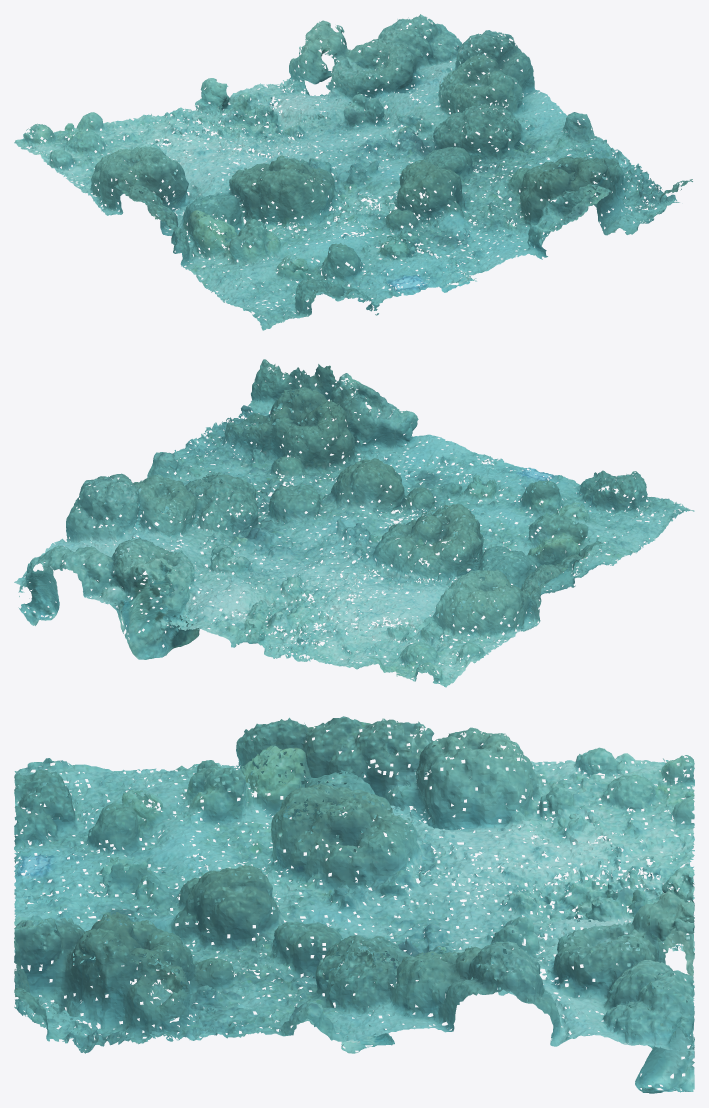
3 views of the same model, one above another, from view 1: azimuth 30°, elevation 25°; view 2: azimuth 150°, elevation 25°; view 3: azimuth 270°, elevation 25° (orthographic). The views are drawn at different scales.
Parts seen in each view (by area): view 1: Reconstructed_surface; view 2: Reconstructed_surface; view 3: Reconstructed_surface.
Part boxes in pixels (x1,y1,x2,y2): Reconstructed_surface: (14,14,692,330); Reconstructed_surface: (14,359,694,687); Reconstructed_surface: (14,716,694,1093).
Bounding box in the file's own units: 3 × 0.7923 × 3.
